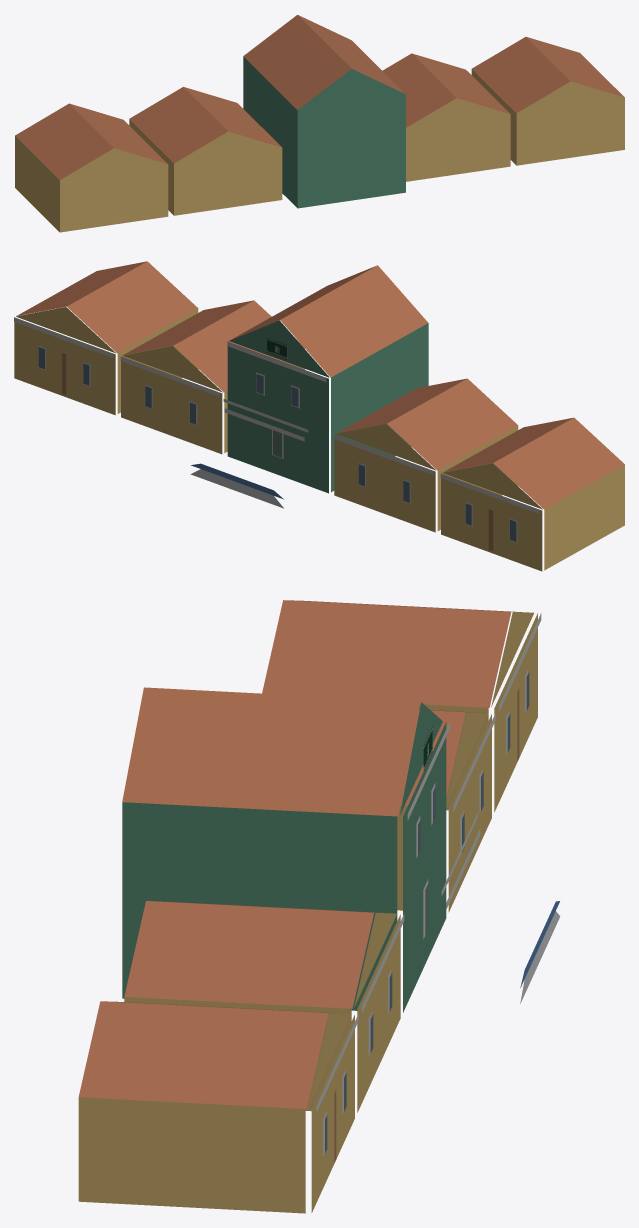
The model's file is archmuseum.glb.
The picture shows the model from 3 angles, top to bottom: view 1: azimuth 30°, elevation 25°; view 2: azimuth 150°, elevation 25°; view 3: azimuth 270°, elevation 25°; orthographic projection. The views are drawn at different scales.
Visible parts, largest first — view 1: archmuseum_lod0; view 2: archmuseum_lod0; view 3: archmuseum_lod0.
Boxes of the visible parts, x1=… form: archmuseum_lod0: x1=15, y1=15, x2=624, y2=232; archmuseum_lod0: x1=14, y1=261, x2=624, y2=571; archmuseum_lod0: x1=78, y1=600, x2=560, y2=1213.
Size of what is drawn, in the model's own units: 34.95 by 8.45 by 14.
Materials: 2 (1 with a texture image).
